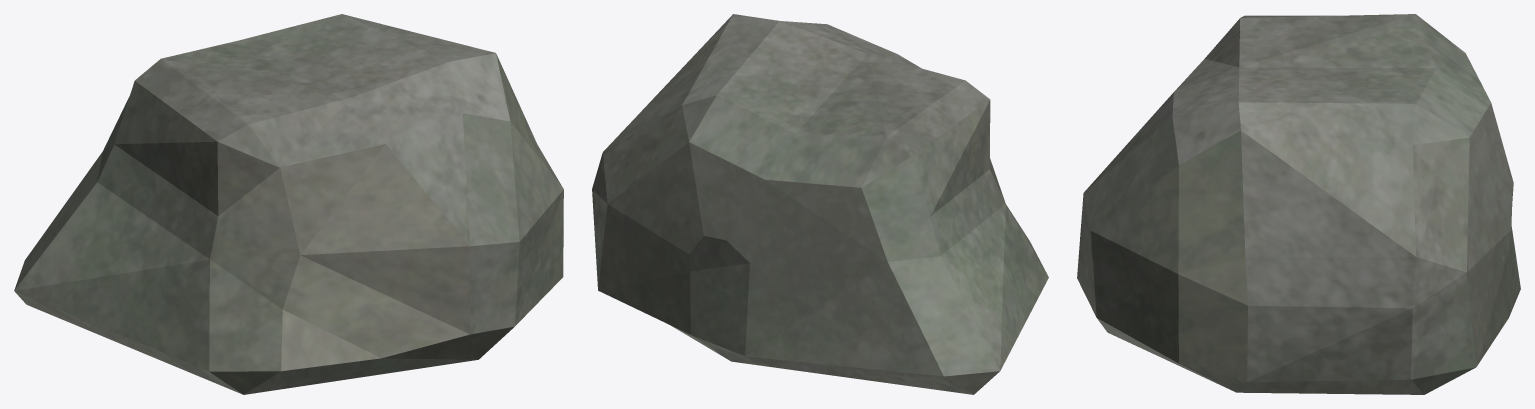
The model's file is stone2.fbx.
The picture shows the model from 3 angles, left to right: view 1: azimuth 30°, elevation 25°; view 2: azimuth 150°, elevation 25°; view 3: azimuth 270°, elevation 25°; orthographic projection. The views are drawn at different scales.
Parts seen in each view (by area): view 1: stone.001; view 2: stone.001; view 3: stone.001.
Part boxes in pixels (x1,y1,x2,y2): stone.001: (14,14,563,394); stone.001: (592,14,1048,394); stone.001: (1077,14,1520,394).
Size of the model in its own units: 419 by 230 by 351.
